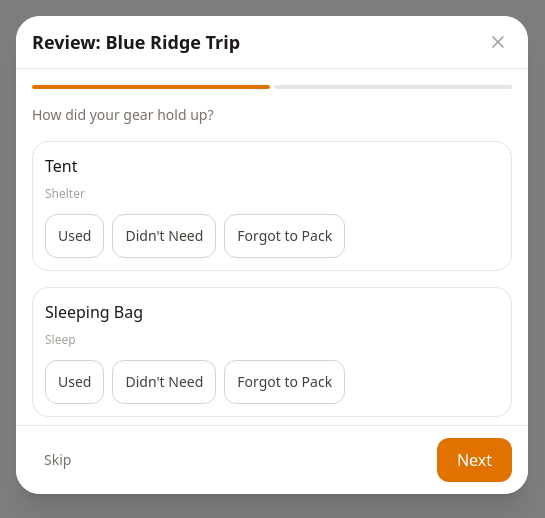
Test: REV-07: Meals step skipped when meals=[] › goes directly to Spot+Notes step when meals is empty
What coordinates should you click on to do the following:
click the button "Next"
I would click on:
 (474, 460)
Its box is left=437, top=438, right=512, bottom=482.
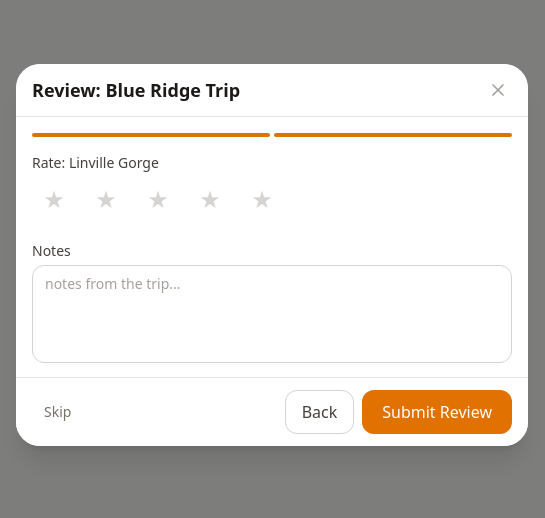
Expected: the text "Notes" is shown, left=32, top=241, right=71, bottom=260
